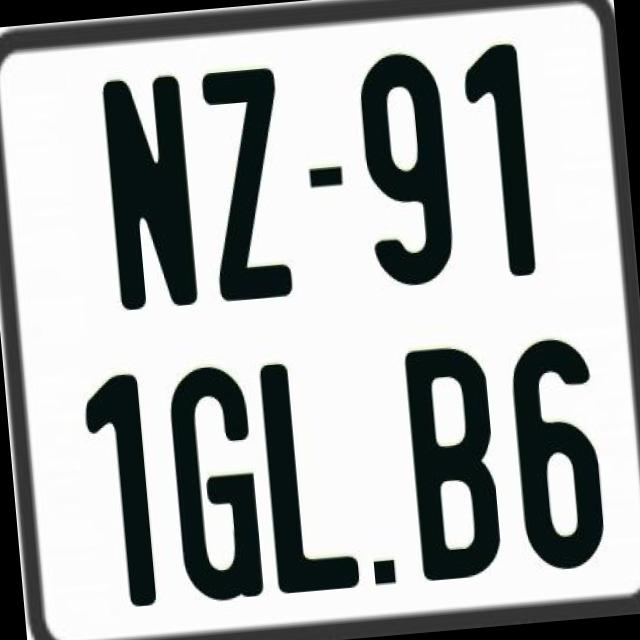1: (459, 41, 538, 282), (78, 369, 154, 606)
6: (508, 333, 614, 578)
9: (353, 48, 453, 288)
B: (404, 341, 504, 586)
G: (164, 362, 262, 604)
L: (258, 355, 364, 592)
N: (96, 70, 195, 314)
Z: (198, 66, 292, 302)
